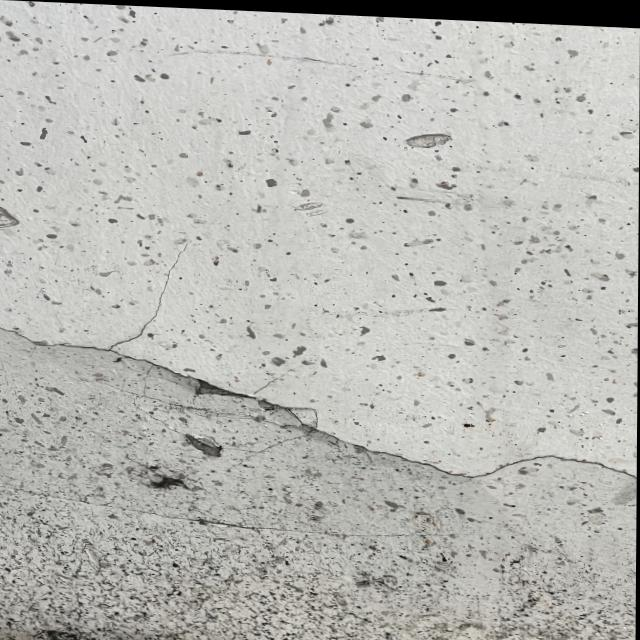crack: (0, 315, 636, 493)
spalling: (127, 430, 257, 520)
